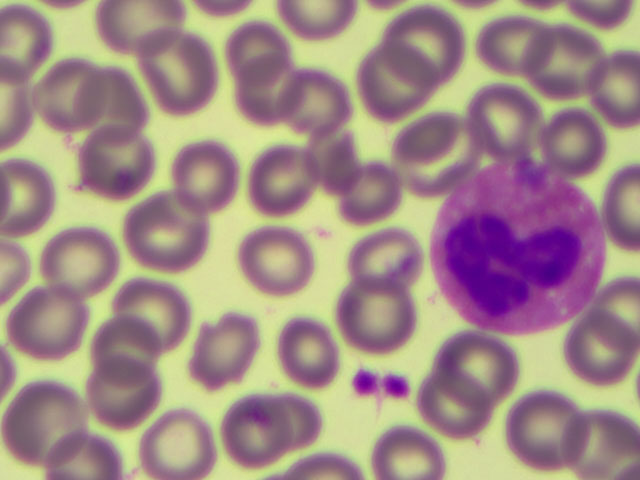Platelets: (353, 369, 379, 397), (386, 375, 412, 400)
RBC: (131, 27, 217, 112), (383, 6, 471, 79), (124, 197, 214, 267), (523, 29, 606, 102), (431, 334, 514, 405), (13, 385, 86, 464), (345, 277, 420, 353), (353, 225, 423, 300), (562, 414, 640, 480), (358, 43, 431, 113), (221, 25, 298, 91), (87, 355, 163, 421), (398, 118, 468, 189), (80, 129, 156, 194), (276, 313, 339, 391), (94, 1, 186, 54), (274, 71, 350, 135), (509, 398, 582, 464), (424, 374, 495, 441), (466, 90, 539, 154), (41, 235, 120, 294), (117, 284, 193, 345), (78, 67, 147, 134), (190, 317, 256, 386), (91, 323, 160, 388), (36, 63, 103, 129), (226, 399, 294, 464), (143, 416, 214, 478), (240, 232, 312, 292), (249, 144, 313, 211), (571, 316, 632, 386), (11, 297, 87, 353), (1, 5, 45, 98), (539, 105, 603, 167), (234, 62, 304, 118), (171, 142, 233, 205), (263, 388, 328, 447), (1, 162, 58, 229), (481, 18, 548, 75), (344, 157, 400, 224), (308, 133, 363, 199), (590, 53, 640, 125), (374, 432, 444, 480), (1, 55, 33, 147), (276, 1, 350, 36), (610, 164, 640, 244), (603, 281, 640, 343), (1, 243, 32, 298), (570, 1, 629, 26)
WBC: (446, 169, 588, 340)
